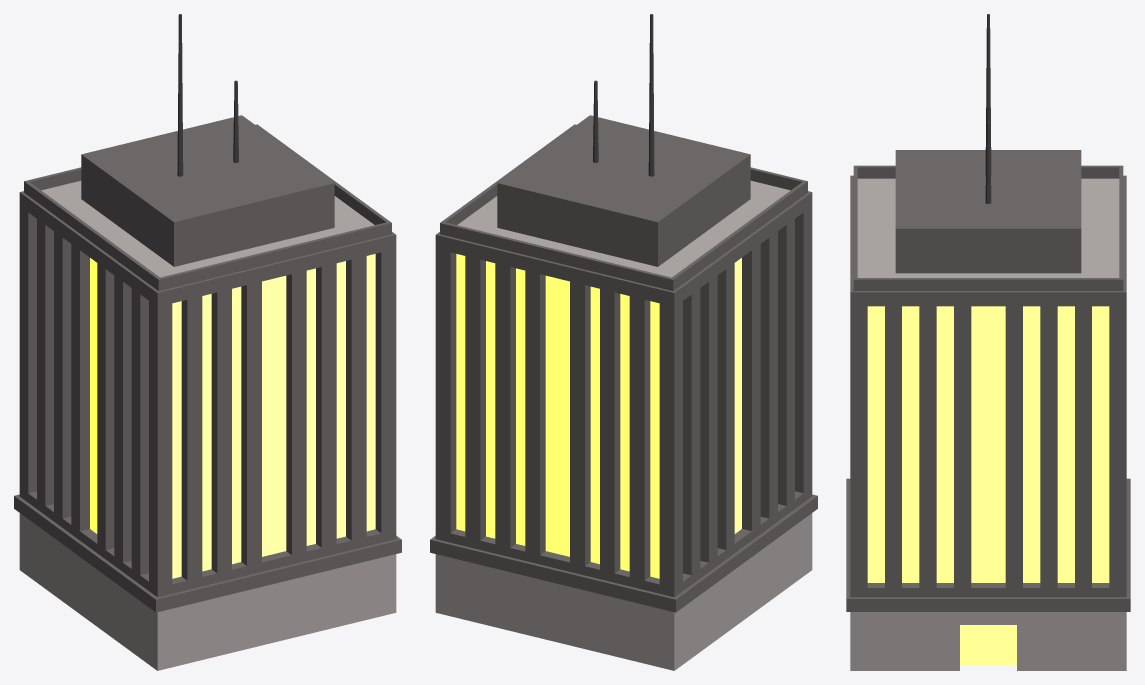
The model's file is building2.glb.
3 renders of one model, left to right at view 1: azimuth 30°, elevation 25°; view 2: azimuth 150°, elevation 25°; view 3: azimuth 270°, elevation 25°, orthographic.
Visible parts, largest first — view 1: Edificio.001; view 2: Edificio.001; view 3: Edificio.001.
Boxes of the visible parts, box(x1,y1,x2,y2) form: Edificio.001: box(14, 14, 401, 670); Edificio.001: box(430, 14, 817, 670); Edificio.001: box(846, 14, 1130, 670).
Size of the model in its own units: 4.98 by 11.29 by 4.98.
